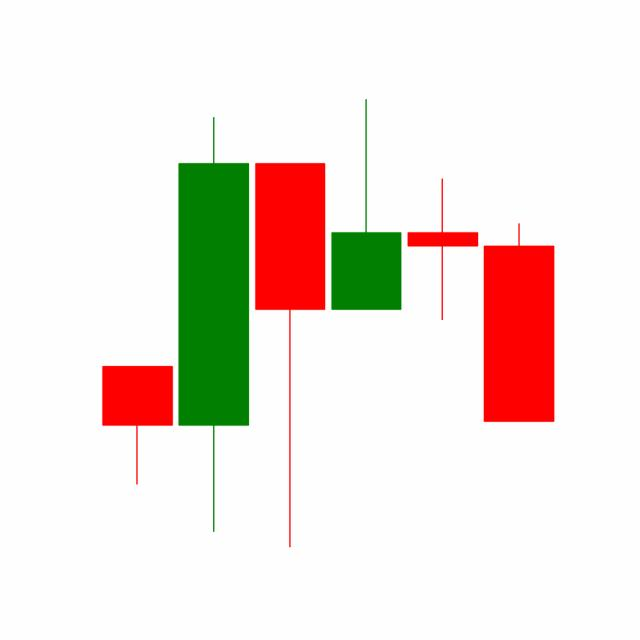Spinning Top: (403, 176, 481, 321)
